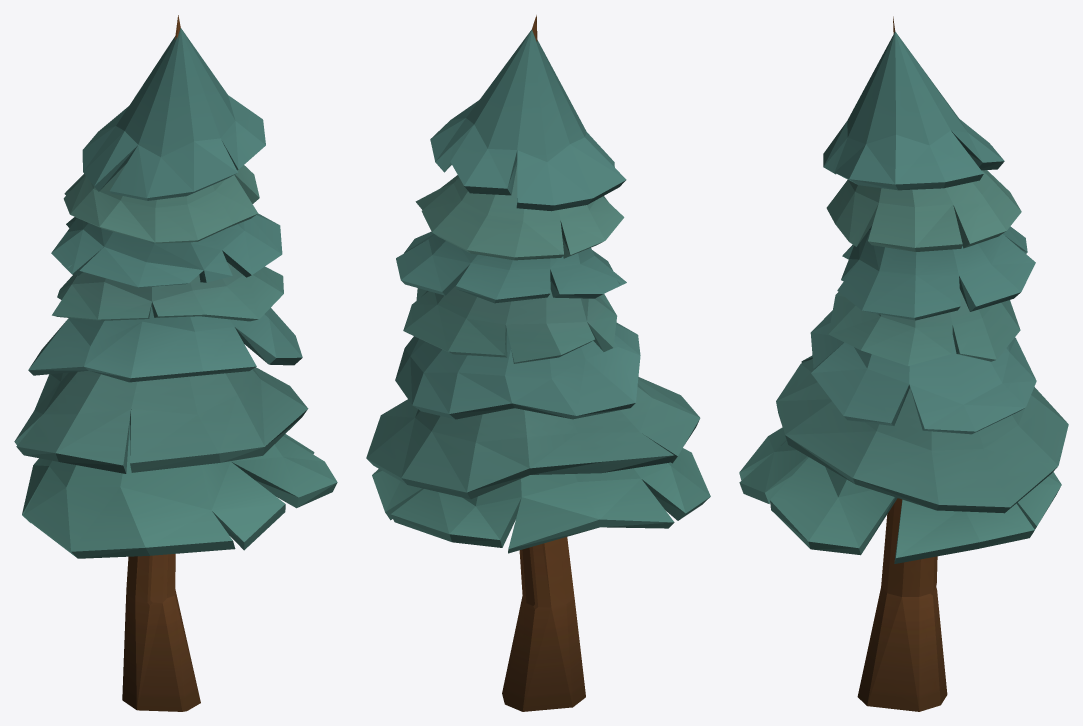
Rendered from tree_fir.glb.
3 renders of one model, left to right at view 1: azimuth 30°, elevation 25°; view 2: azimuth 150°, elevation 25°; view 3: azimuth 270°, elevation 25°, orthographic.
Visible parts, largest first — view 1: Conifer Tree_2_AA; view 2: Conifer Tree_2_AA; view 3: Conifer Tree_2_AA.
Boxes of the visible parts, bbox=[...] form: Conifer Tree_2_AA: bbox=[14, 15, 337, 711]; Conifer Tree_2_AA: bbox=[366, 15, 710, 711]; Conifer Tree_2_AA: bbox=[739, 16, 1068, 711].
Size of the model in its own units: 1.75 by 3.92 by 1.7.
1 material, 1 textured.
